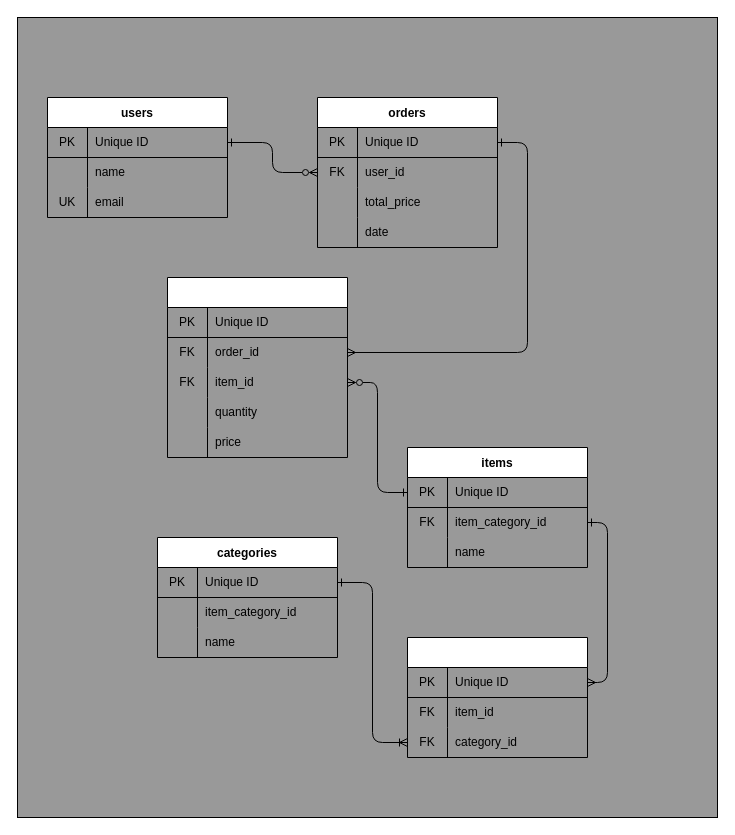
Image size: 735x835. Some labels were removed from this diagram. Here are the shapes that lost their labels. From the top down, the box of each, then its label:
(166, 276, 348, 458): order_details
(406, 636, 588, 758): itemsCategories
